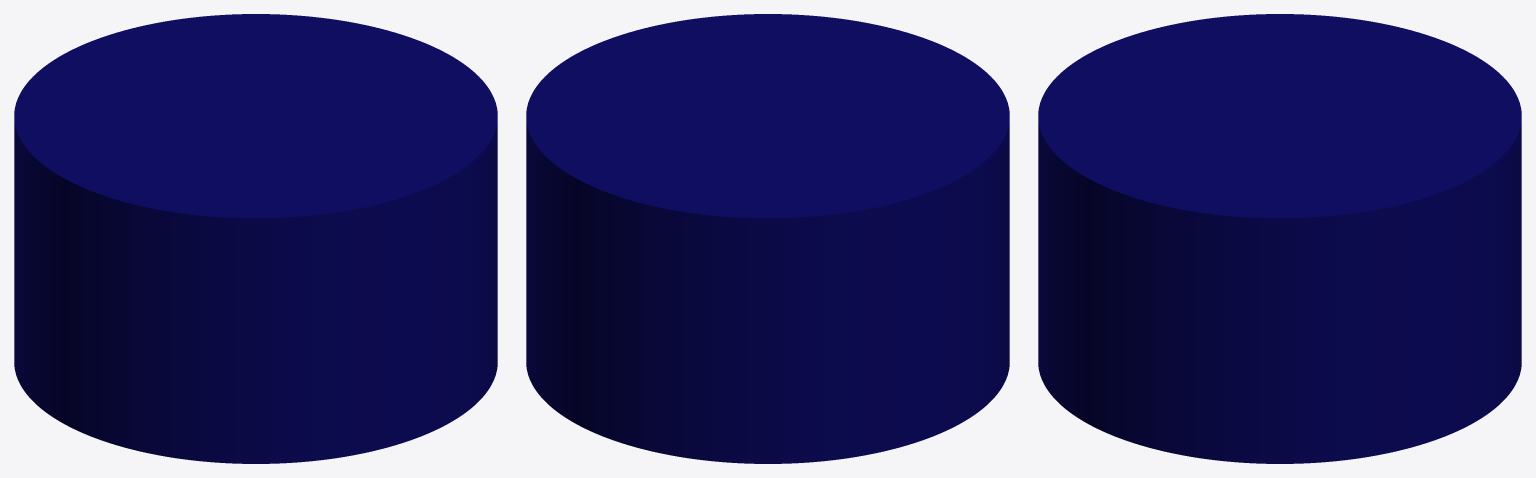
The model's file is vlp_32c_lens.dae.
3 views of the same model, side by side, from view 1: azimuth 30°, elevation 25°; view 2: azimuth 150°, elevation 25°; view 3: azimuth 270°, elevation 25° (orthographic).
Visible parts, largest first — view 1: vlp_32c_lens; view 2: vlp_32c_lens; view 3: vlp_32c_lens.
Boxes of the visible parts, x1,y1,x2,y2 form: vlp_32c_lens: (14, 14, 497, 463); vlp_32c_lens: (526, 14, 1009, 463); vlp_32c_lens: (1038, 14, 1521, 463).
Size of the model in its own units: 101 by 101 by 56.59.
